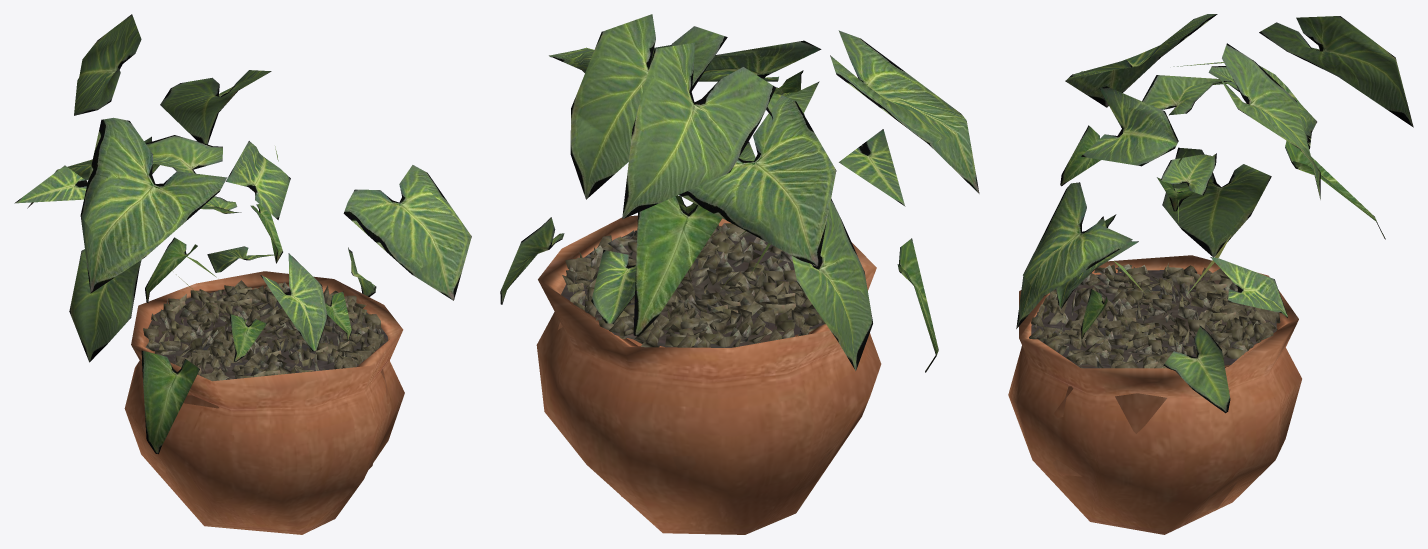
Rendered from potted_plant_02.glb.
3 views of the same model, side by side, from view 1: azimuth 30°, elevation 25°; view 2: azimuth 150°, elevation 25°; view 3: azimuth 270°, elevation 25° (orthographic). The views are drawn at different scales.
Visible parts, largest first — view 1: potted_plant_02_leaves, potted_plant_02_pot, potted_plant_02_dirt; view 2: potted_plant_02_leaves, potted_plant_02_pot, potted_plant_02_dirt; view 3: potted_plant_02_leaves, potted_plant_02_pot, potted_plant_02_dirt.
Part boxes in pixels (bbox=[...]): potted_plant_02_leaves: bbox=[14, 14, 471, 454]; potted_plant_02_pot: bbox=[124, 271, 404, 534]; potted_plant_02_dirt: bbox=[143, 280, 387, 381]; potted_plant_02_leaves: bbox=[500, 14, 979, 372]; potted_plant_02_pot: bbox=[536, 215, 881, 534]; potted_plant_02_dirt: bbox=[561, 223, 825, 347]; potted_plant_02_leaves: bbox=[1016, 14, 1413, 413]; potted_plant_02_pot: bbox=[1008, 255, 1301, 534]; potted_plant_02_dirt: bbox=[1029, 263, 1280, 368].
Bounding box in the file's own units: 0.6967 × 0.8138 × 0.6451.
Materials: 2 (2 with a texture image).
